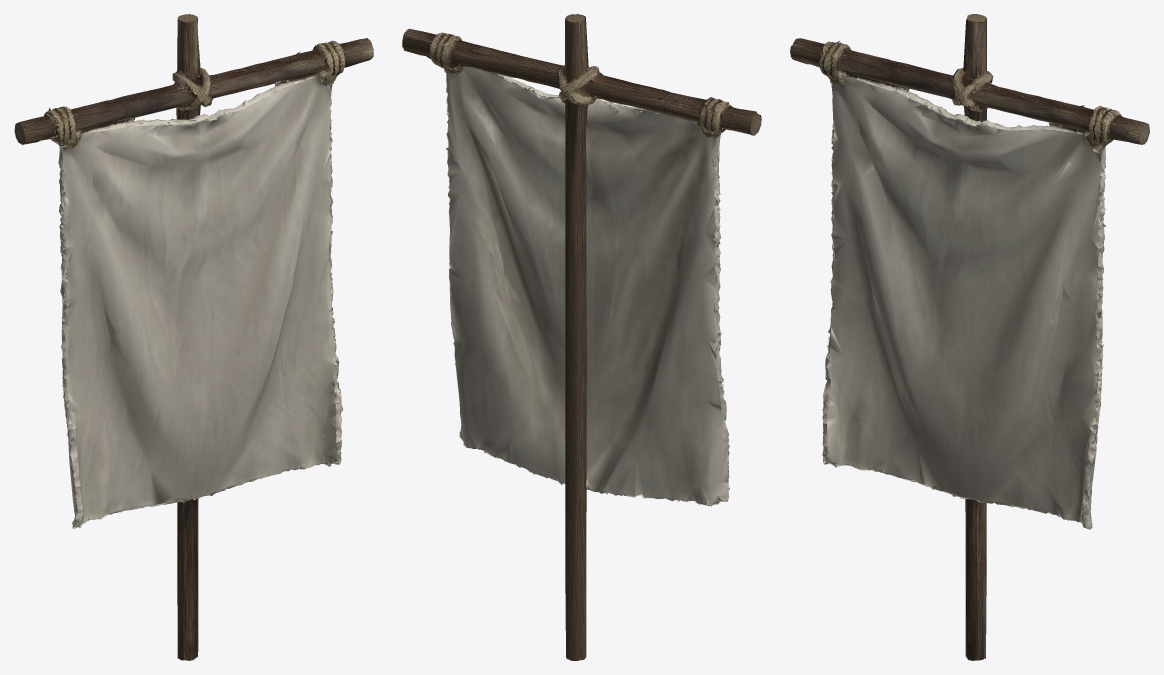
File: protest-banner.glb
The picture shows the model from 3 angles, left to right: view 1: azimuth 30°, elevation 25°; view 2: azimuth 150°, elevation 25°; view 3: azimuth 330°, elevation 25°; orthographic projection.
Parts seen in each view (by area): view 1: protest-banner_mesh; view 2: protest-banner_mesh; view 3: protest-banner_mesh.
Boxes of the visible parts, x1,y1,x2,y2 form: protest-banner_mesh: (14, 14, 373, 660); protest-banner_mesh: (402, 14, 761, 660); protest-banner_mesh: (790, 14, 1149, 660).
Bounding box in the file's own units: 1.09 × 1.9 × 0.1707.
Materials: 1 (1 with a texture image).
